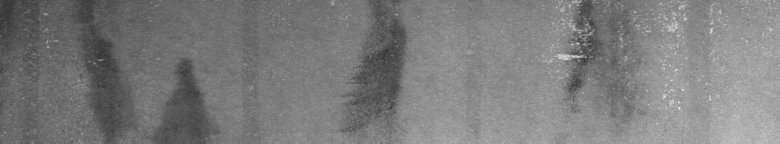hc: (554, 4, 713, 110)
